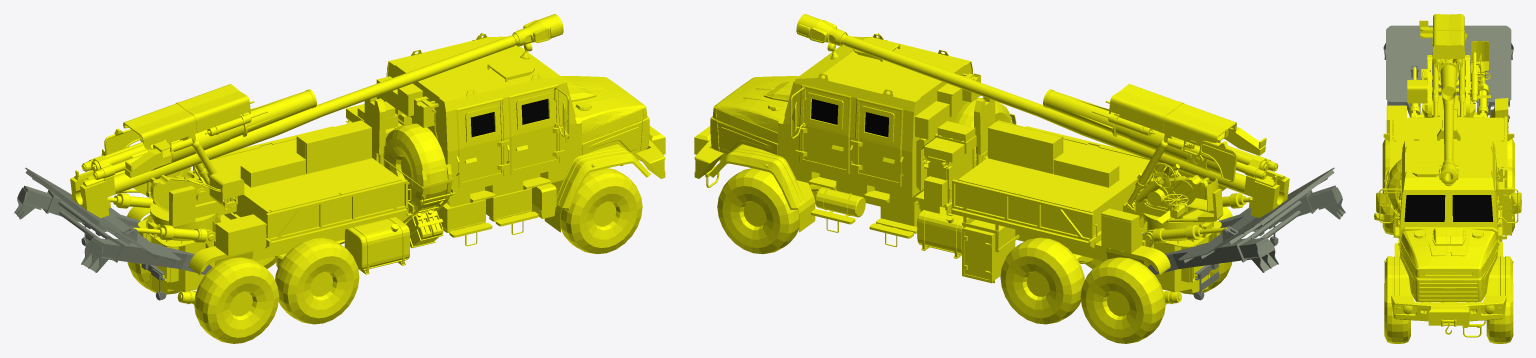
The model's file is bogdana.glb.
3 renders of one model, left to right at view 1: azimuth 30°, elevation 25°; view 2: azimuth 150°, elevation 25°; view 3: azimuth 270°, elevation 25°, orthographic. The views are drawn at different scales.
Parts seen in each view (by area): view 1: body__4, cradle__1, barrel, spade, w0R__1, w1R, w2R, turret, body, body__3, cradle, turret__6 (+1 smaller); view 2: body__4, cradle__1, spade, barrel, w0L__1, w1L, w2L, turret, body__1, cradle, body__2, turret__2 (+3 smaller); view 3: body__4, spade, turret, cradle__1, body__2, barrel, w2L, w2R, turret__4, body__3, turret__6, w1R (+6 smaller).
Boxes of the visible parts, x1=… form: body__4: x1=127, y1=33, x2=665, y2=304; cradle__1: x1=104, y1=84, x2=316, y2=197; barrel: x1=107, y1=14, x2=563, y2=197; spade: x1=14, y1=167, x2=212, y2=300; w0R__1: x1=194, y1=257, x2=279, y2=343; w1R: x1=275, y1=237, x2=359, y2=324; w2R: x1=561, y1=168, x2=642, y2=253; turret: x1=101, y1=149, x2=244, y2=228; body: x1=235, y1=179, x2=411, y2=241; body__3: x1=383, y1=123, x2=447, y2=210; cradle: x1=70, y1=138, x2=192, y2=218; turret__6: x1=113, y1=193, x2=213, y2=242; body__4: x1=694, y1=33, x2=1232, y2=304; cradle__1: x1=1043, y1=84, x2=1266, y2=184; spade: x1=1147, y1=167, x2=1345, y2=300; barrel: x1=796, y1=14, x2=1250, y2=196; w0L__1: x1=1080, y1=257, x2=1165, y2=343; w1L: x1=1000, y1=237, x2=1084, y2=324; w2L: x1=717, y1=168, x2=798, y2=254; turret: x1=1123, y1=163, x2=1226, y2=228; body__1: x1=949, y1=179, x2=1101, y2=241; cradle: x1=1167, y1=138, x2=1289, y2=217; body__2: x1=811, y1=99, x2=888, y2=137; turret__2: x1=1101, y1=215, x2=1131, y2=253; body__4: x1=1374, y1=98, x2=1521, y2=337; spade: x1=1383, y1=25, x2=1513, y2=121; turret: x1=1407, y1=41, x2=1490, y2=117; cradle__1: x1=1419, y1=14, x2=1467, y2=100; body__2: x1=1404, y1=195, x2=1493, y2=221; barrel: x1=1439, y1=97, x2=1458, y2=184; w2L: x1=1486, y1=283, x2=1513, y2=343; w2R: x1=1384, y1=283, x2=1410, y2=343; turret__4: x1=1432, y1=52, x2=1465, y2=102; body__3: x1=1387, y1=159, x2=1401, y2=212; turret__6: x1=1409, y1=83, x2=1488, y2=117; w1R: x1=1382, y1=167, x2=1393, y2=234.
Size of the model in its own units: 11.59 by 3.92 by 3.09.
4 materials, 1 textured.
